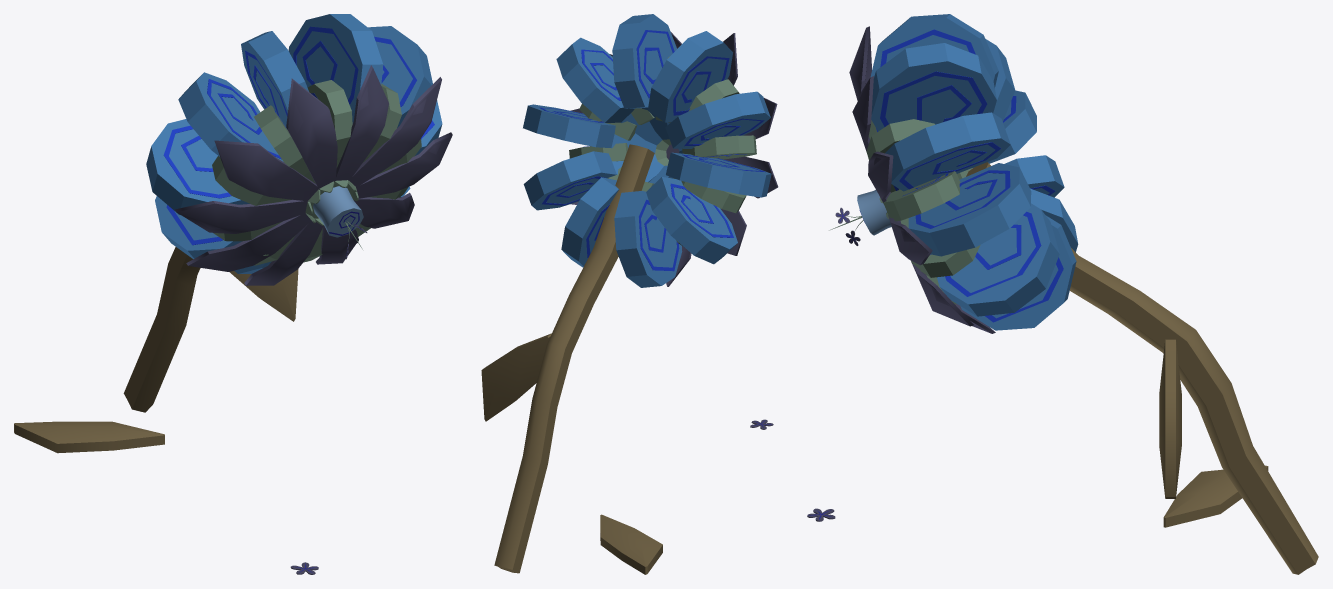
Rendered from Planta Morta.fbx.
3 views of the same model, side by side, from view 1: azimuth 30°, elevation 25°; view 2: azimuth 150°, elevation 25°; view 3: azimuth 270°, elevation 25° (orthographic). The views are drawn at different scales.
Visible parts, largest first — view 1: Planta_Aberta_01:pCylinder10, pCube23, pCube7, pCube16, pCube14, pCube8, pCube24, pCube22, pCube17, pCylinder12, pCylinder50, pCylinder51 (+4 smaller); view 2: pCube7, pCube18, pCube23, pCube24, pCube17, pCube22, pCube14, pCube20, pCube9, pCube16, pCube21, pCube19 (+7 smaller); view 3: pCube7, pCube23, pCube20, pCube21, pCube22, Planta_Aberta_01:pCylinder10, pCube24, pCube9, pCube19, pCube8, pCylinder48, pCube16 (+6 smaller).
Part boxes in pixels (box(x1,y1,x2,y2)): Planta_Aberta_01:pCylinder10: box(175, 65, 452, 285); pCube23: box(288, 14, 383, 123); pCube7: box(123, 247, 200, 412); pCube16: box(146, 119, 249, 214); pCube14: box(178, 72, 283, 161); pCube8: box(14, 421, 164, 453); pCube24: box(241, 31, 308, 127); pCube22: box(368, 26, 432, 127); pCube17: box(155, 196, 241, 258); pCylinder12: box(313, 186, 363, 237); pCylinder50: box(307, 80, 352, 167); pCylinder51: box(254, 105, 315, 183); pCube7: box(494, 144, 654, 573); pCube18: box(614, 165, 682, 287); pCube23: box(612, 14, 676, 139); pCube24: box(647, 31, 732, 125); pCube17: box(646, 176, 737, 264); pCube22: box(556, 37, 662, 145); pCube14: box(665, 91, 770, 151); pCube20: box(523, 151, 657, 210); pCube9: box(481, 333, 551, 421); pCube16: box(666, 150, 771, 197); pCube21: box(523, 104, 656, 153); pCube19: box(561, 161, 663, 267); pCube7: box(966, 162, 1318, 574); pCube23: box(871, 43, 996, 131); pCube20: box(937, 203, 1059, 316); pCube21: box(908, 163, 1031, 256); pCube22: box(885, 112, 1010, 191); Planta_Aberta_01:pCylinder10: box(849, 26, 995, 333); pCube24: box(870, 14, 998, 87); pCube9: box(1159, 339, 1181, 498); pCube19: box(960, 215, 1076, 330); pCube8: box(1163, 465, 1268, 527); pCylinder48: box(883, 171, 960, 221); pCube16: box(973, 90, 1036, 167).
Bounding box in the file's own units: 243 × 432 × 371.
